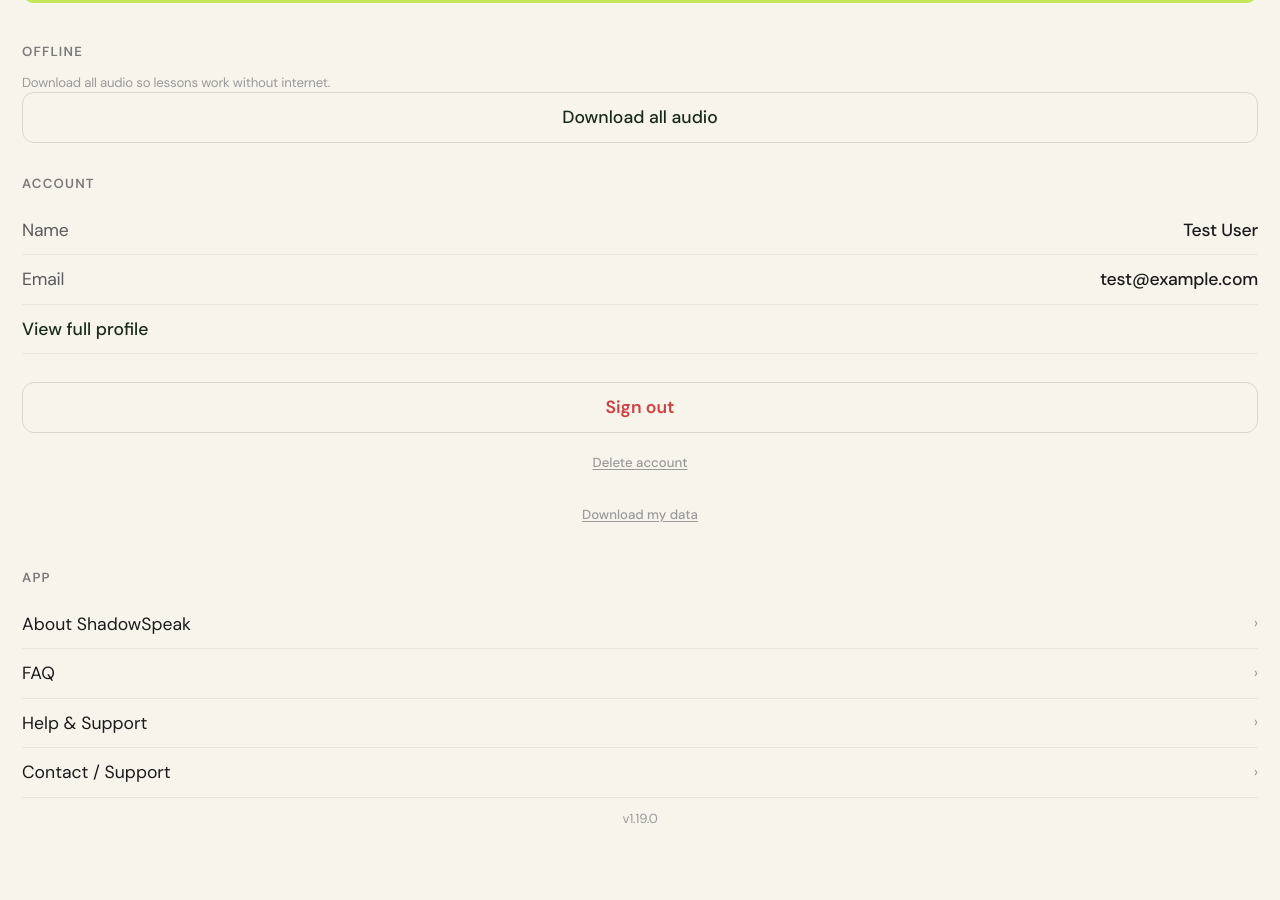
SettingsScreen — Delete Account flow › shows second confirm modal after first warning is confirmed
(page scrolled)
Click the button "Delete account" at (640, 463), box [22,441,1258,485]
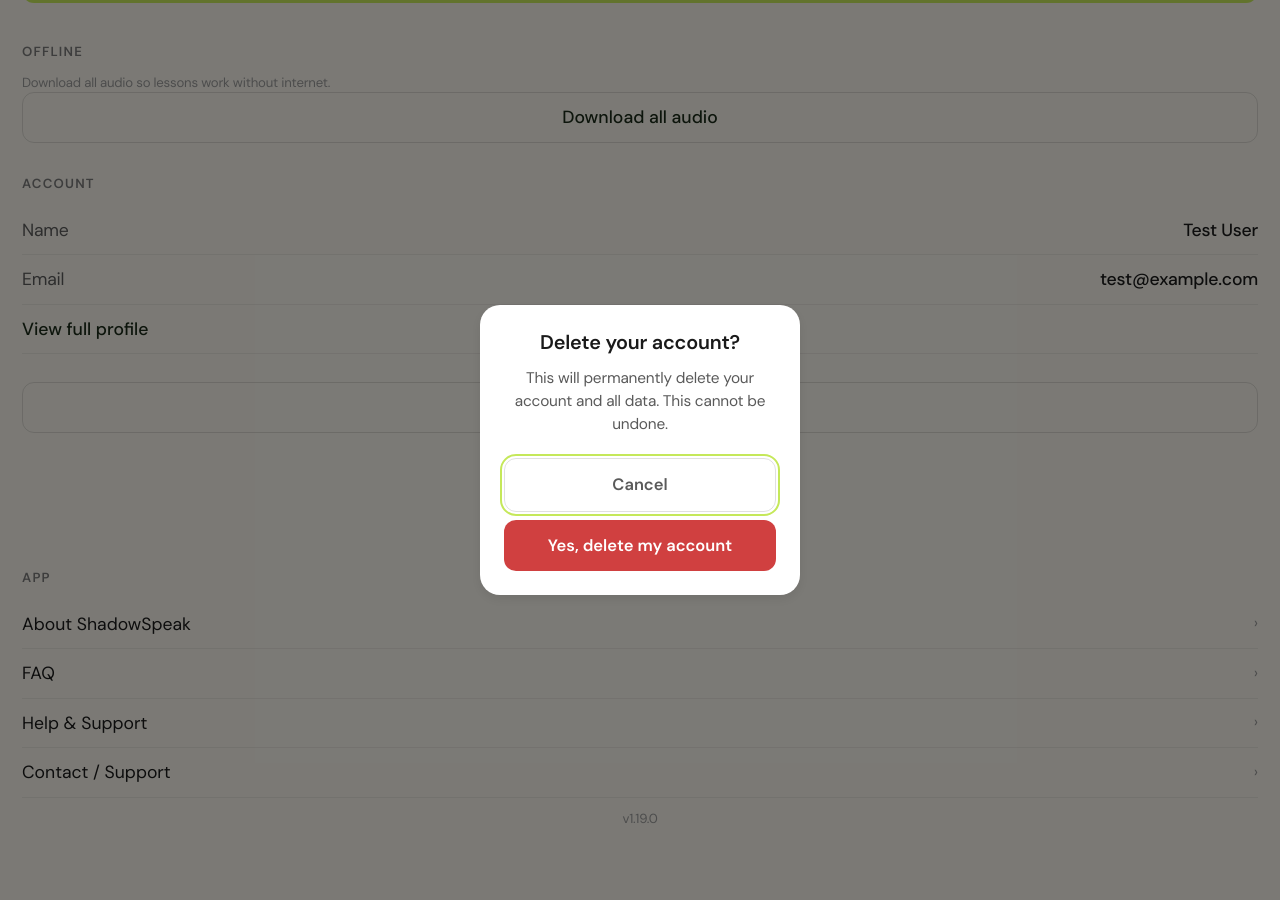
Click the button "Yes, delete my account" at (640, 545), box [504,520,776,571]
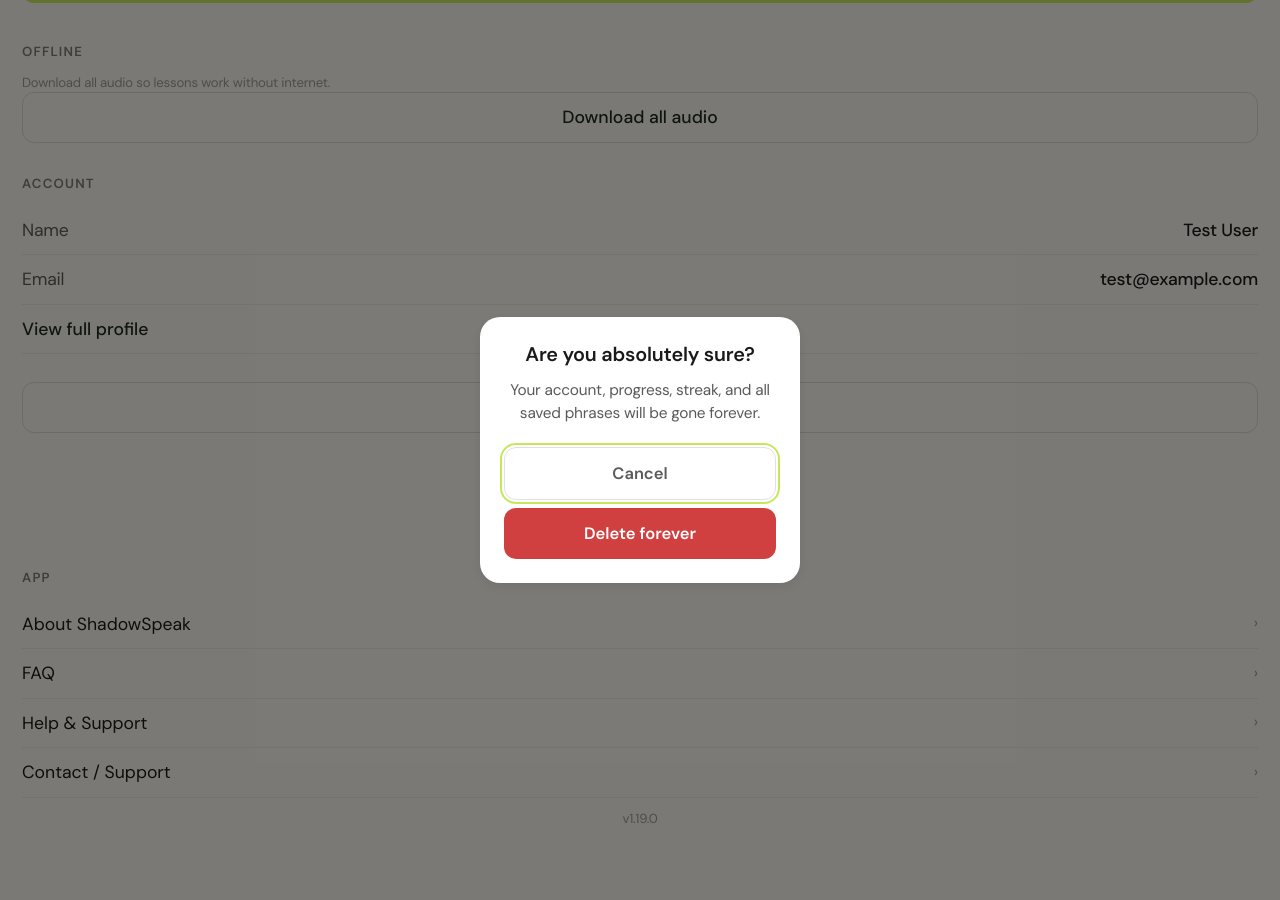
Expected: the heading "Are you absolutely sure?" is shown, [525,341,755,367]
Expected: the button "Delete forever" is shown, [504,508,776,559]
